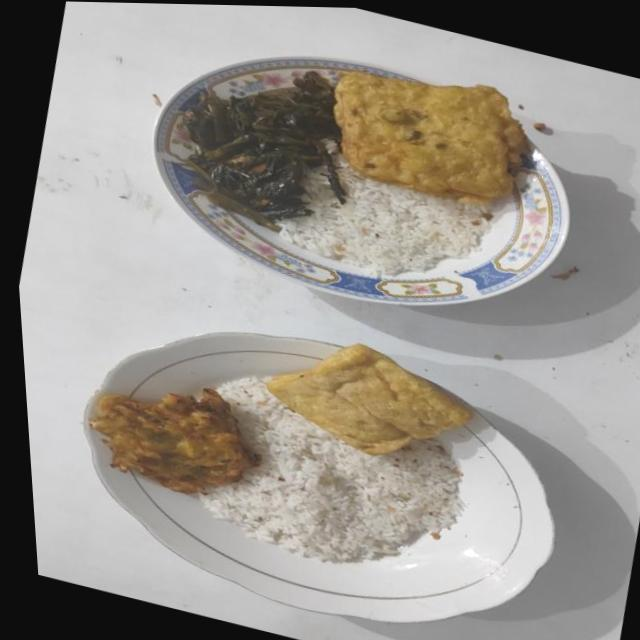nasi_putih: (200, 376, 462, 563), (280, 141, 496, 276)
tahu_goreng: (266, 344, 472, 455)
tumis_kangkung: (183, 70, 346, 228)
